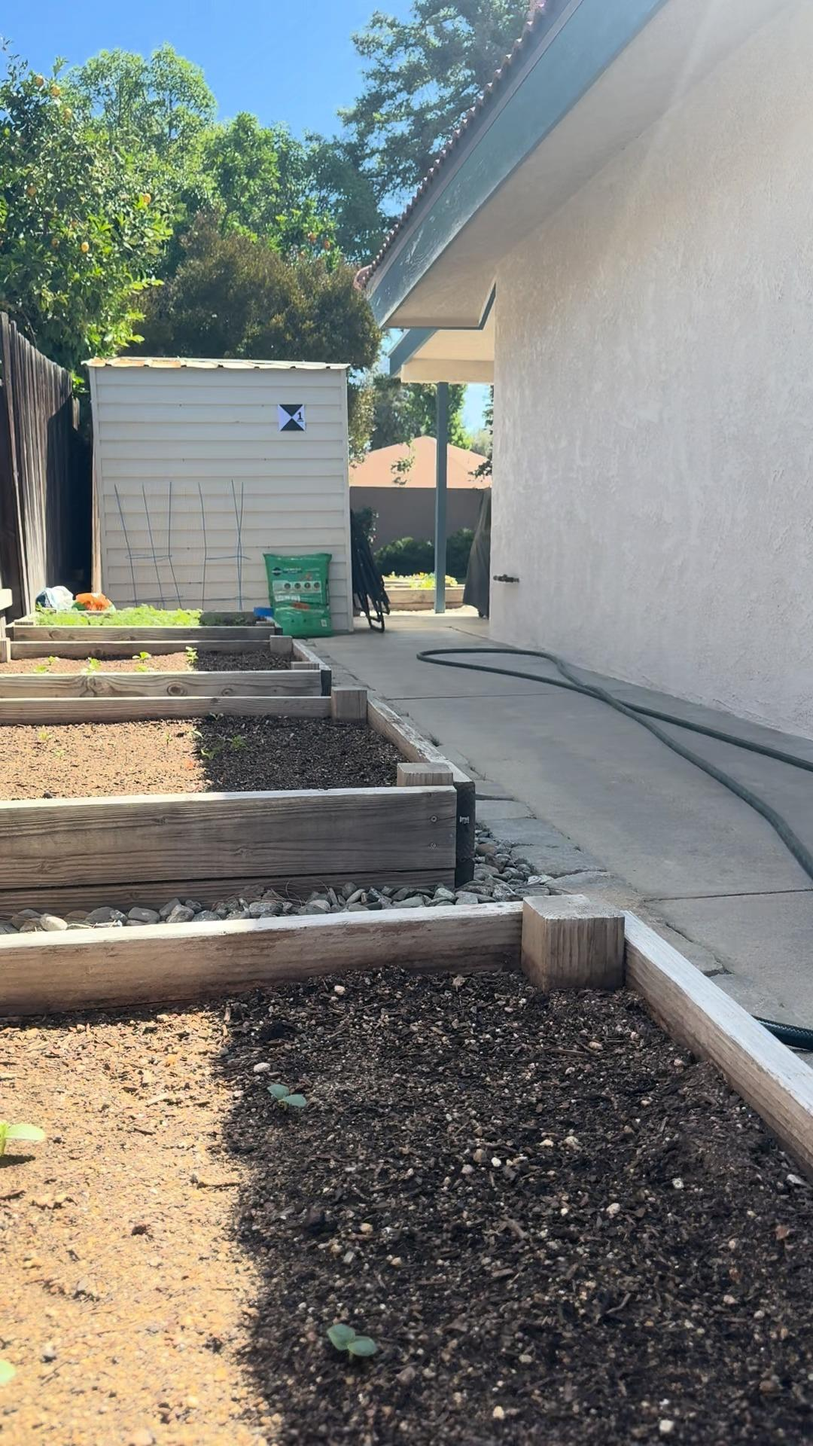target1: (276, 400, 312, 433)
